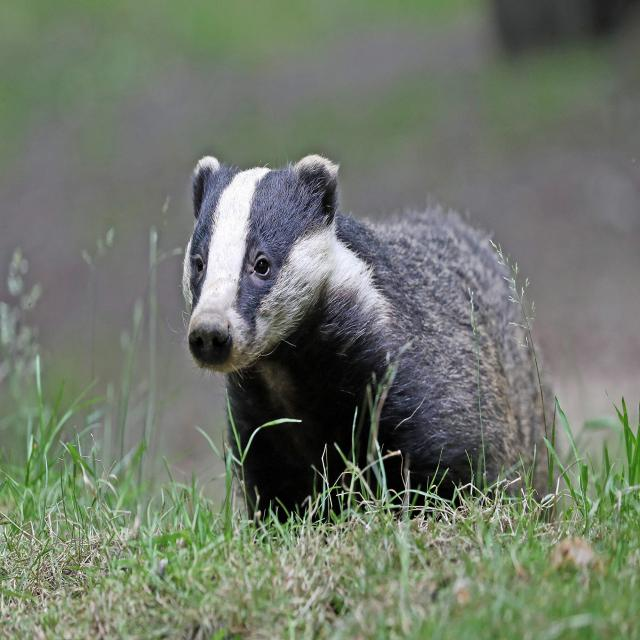Badger: (182, 156, 550, 513)
